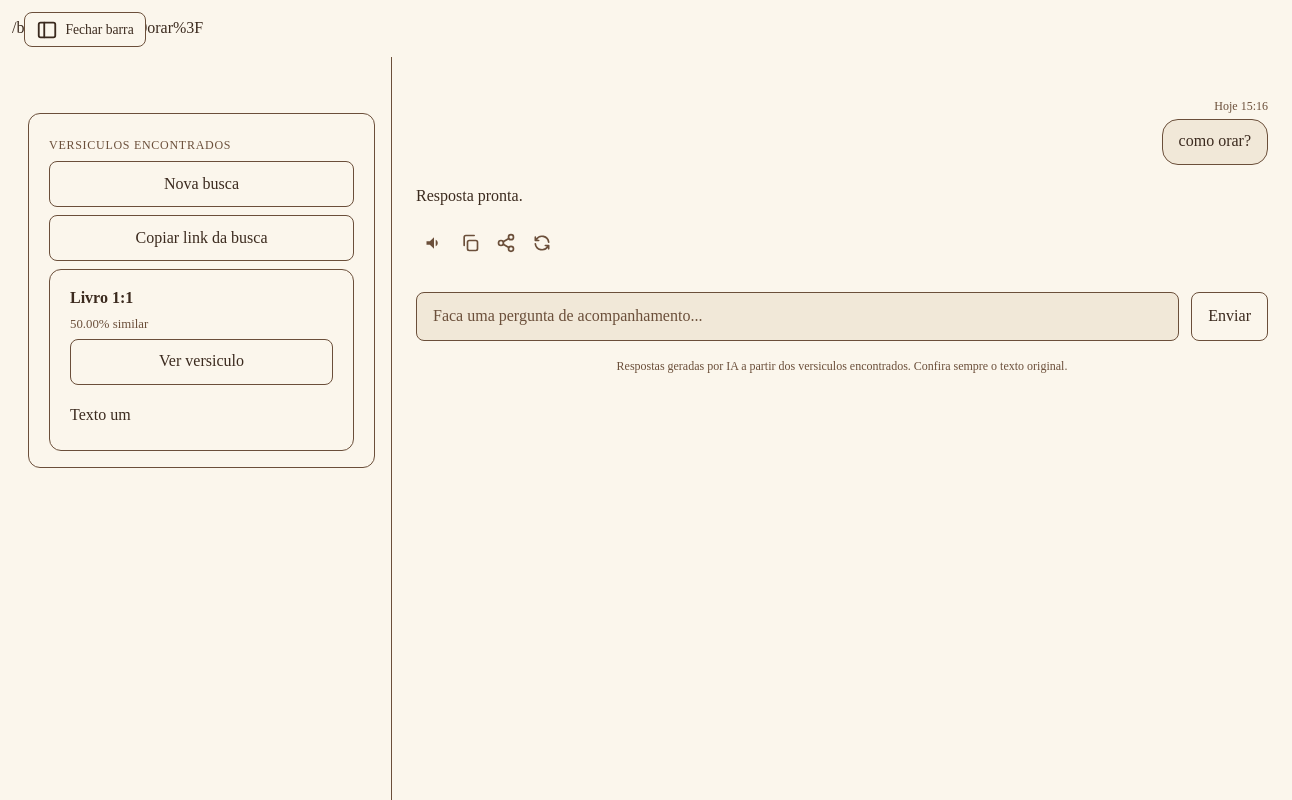
Scenario: buscas recentes › Limpar historico apaga a lista e o que estava guardado
Expected: the text "Resposta pronta." is shown, [416,187,523,204]
Click the button "Nova busca" at (202, 184), box [49,161,354,207]
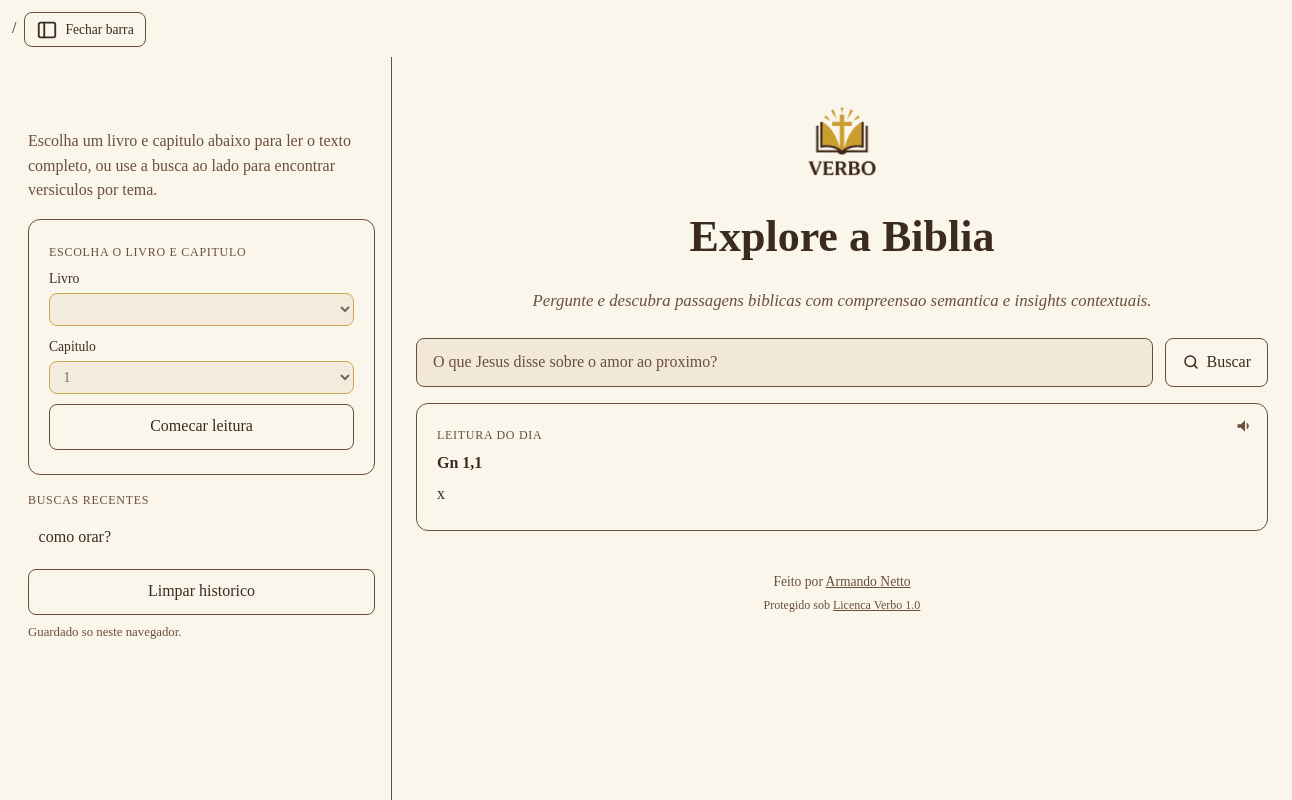
Click the button "Limpar historico" at (202, 592), box [28,569,375,615]
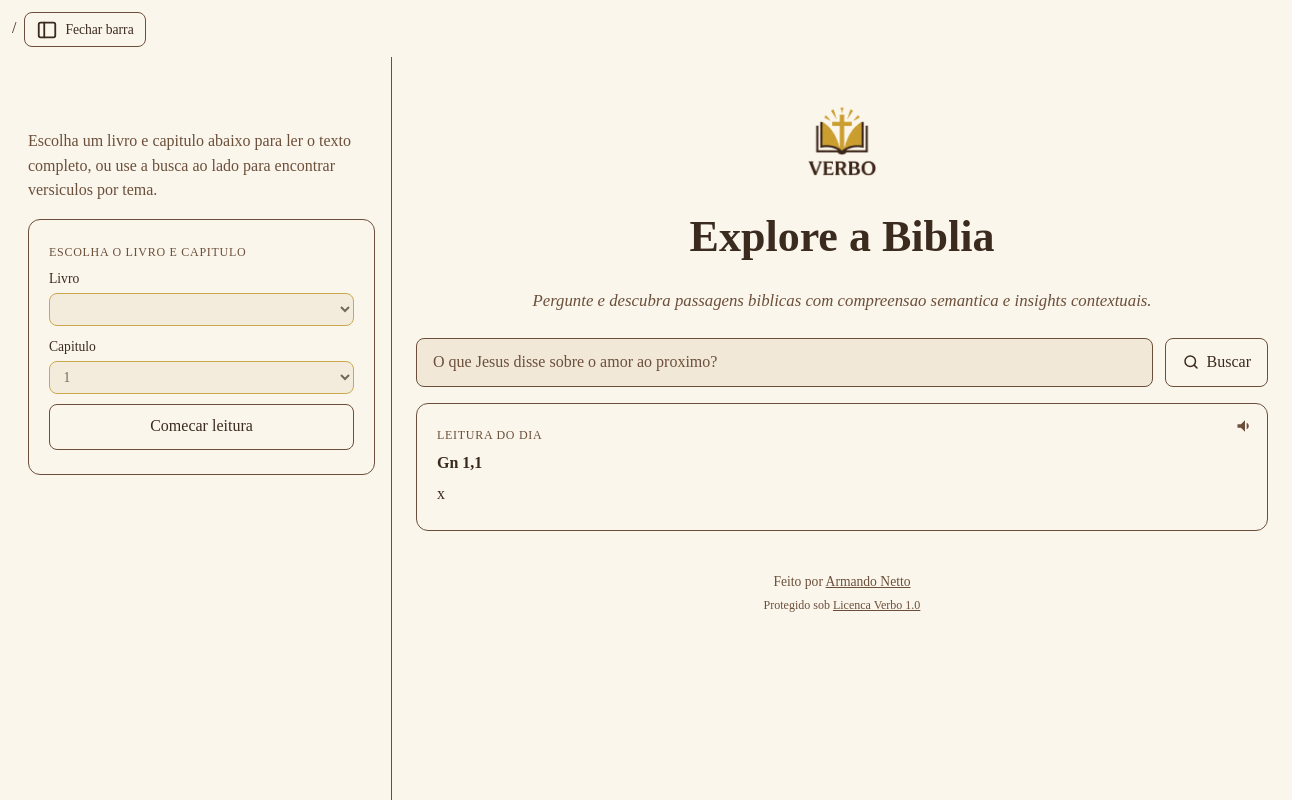
Now the text "BUSCAS RECENTES" is gone
